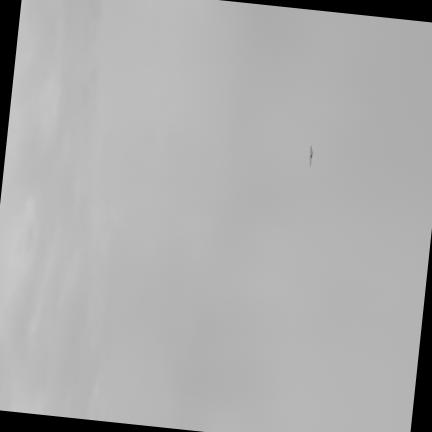Shahed: (310, 146, 312, 165)
